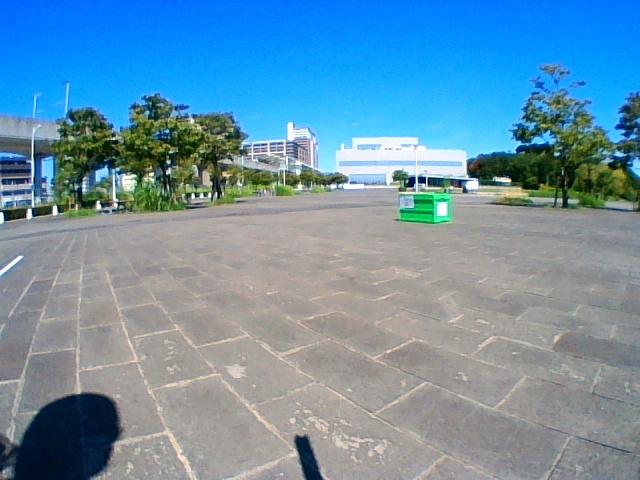green_box: (398, 193, 451, 223)
tag: (400, 196, 413, 207)
